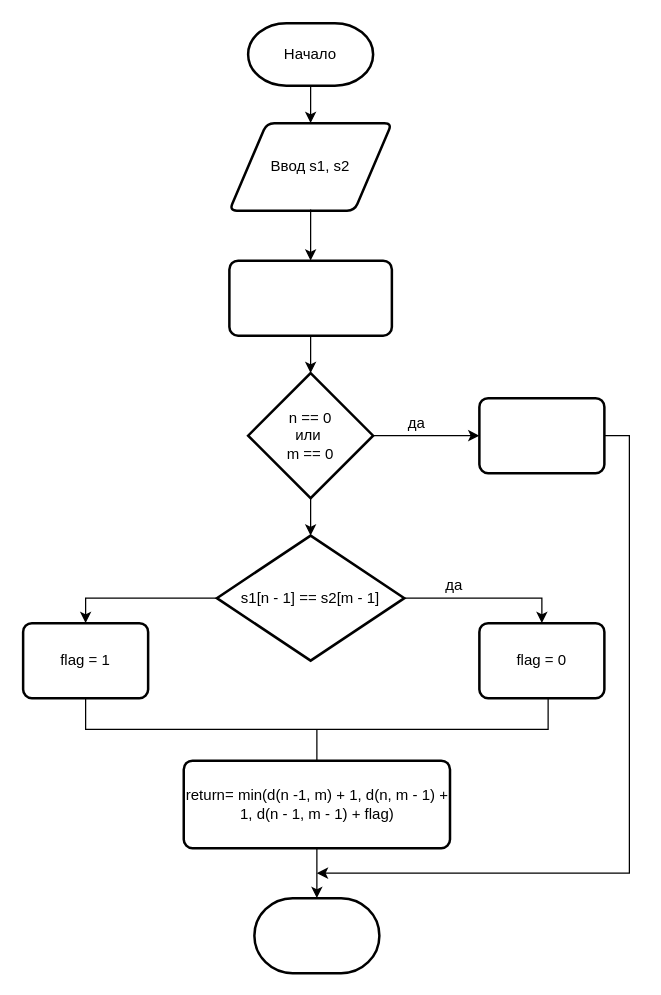
Some shapes in this 661 by 995 pixel diagram are drawn without their labels. The shapes that lost their labels are listed below. From the top down, each one's centre as x and y in pixels, then its label:
At point 310,297: "n = длина s1 m = длина s2".
At point 541,435: "return |n - m|".
At point 316,935: "конец".
